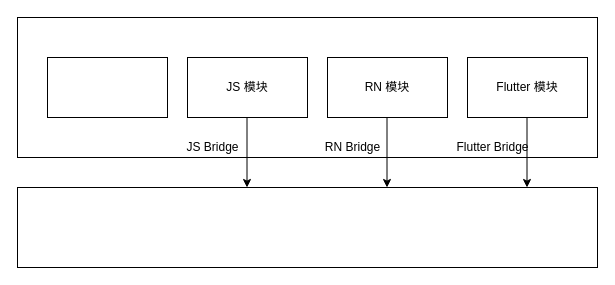
The diagram is 615 pixels wide and 285 high, and some of its shapes have lost their labels. The shapes that lost their labels are listed below. From the top down, each one's centre as x and y in pixels, then its label:
At pixel 107 87: "Native 模块".
At pixel 307 227: "Native插件".
